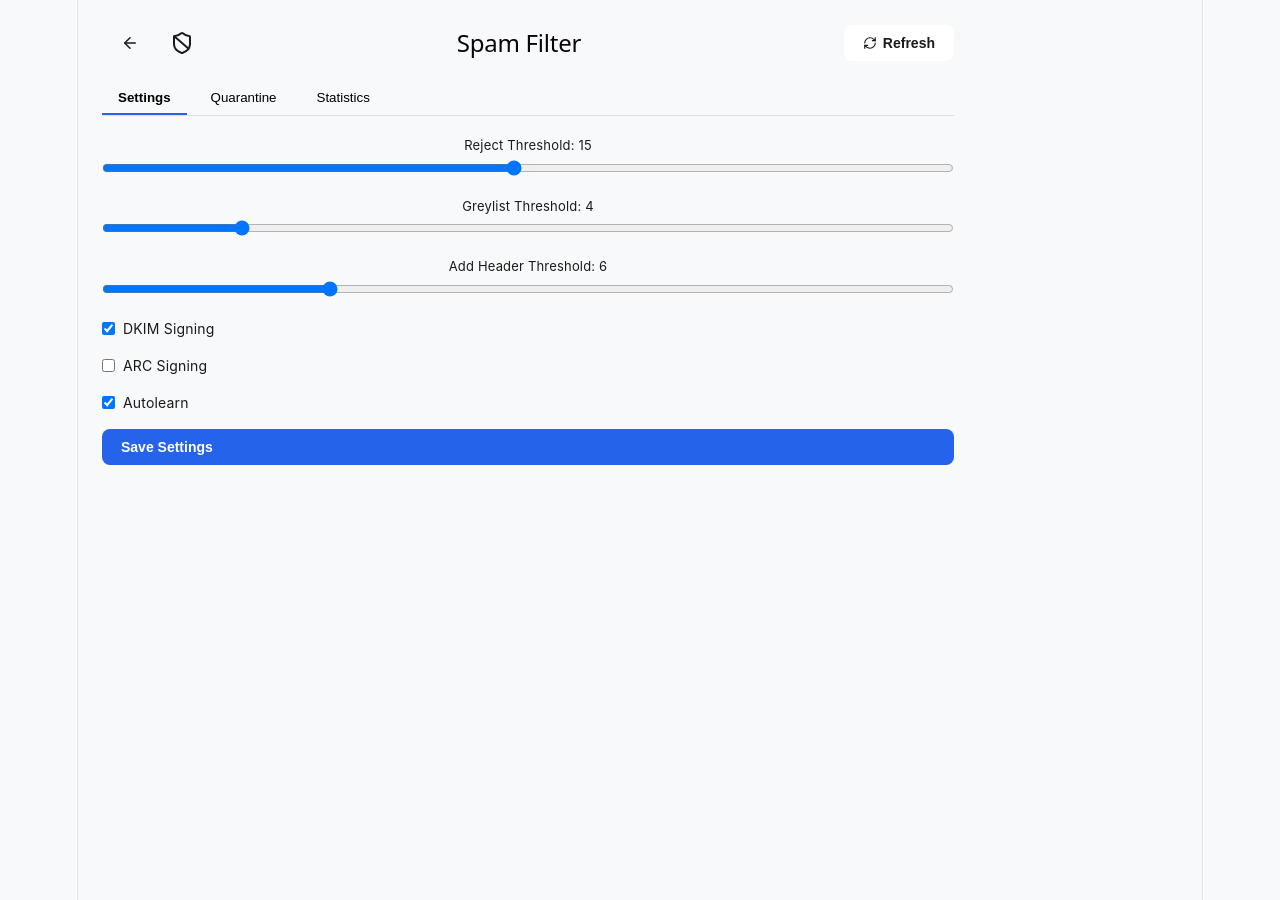
Test case: SpamFilterManager › renders statistics tab with stat cards
expect the heading "Spam Filter" is shown: met, box [457,26,581,59]
Click the button "statistics" at [343, 98], box [300,82,386,115]
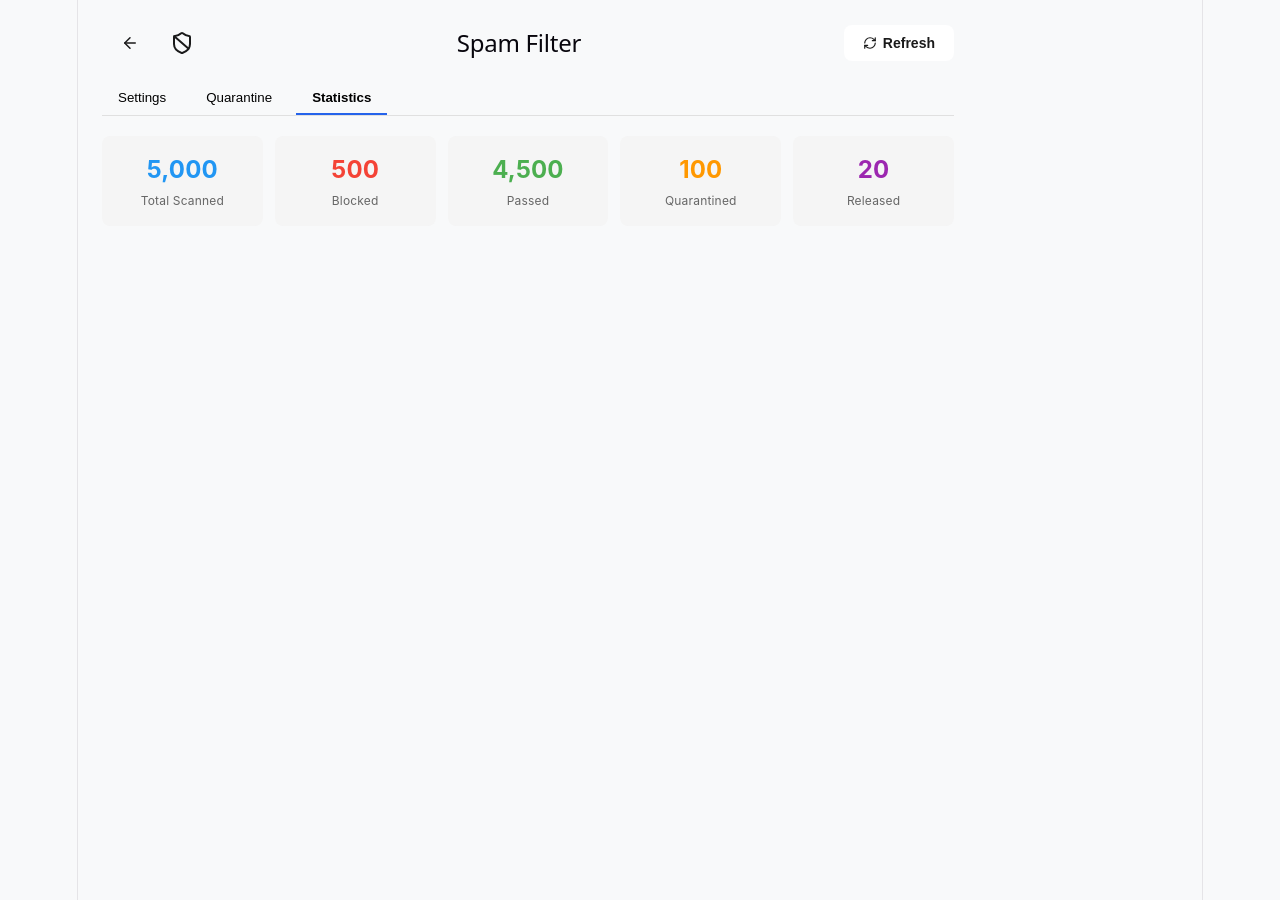
expect the text "5,000" is shown: met, box [147,155,218,184]
expect the text "Total Scanned" is shown: met, box [141,193,224,208]
expect the text "Blocked" is shown: met, box [332,193,378,208]
